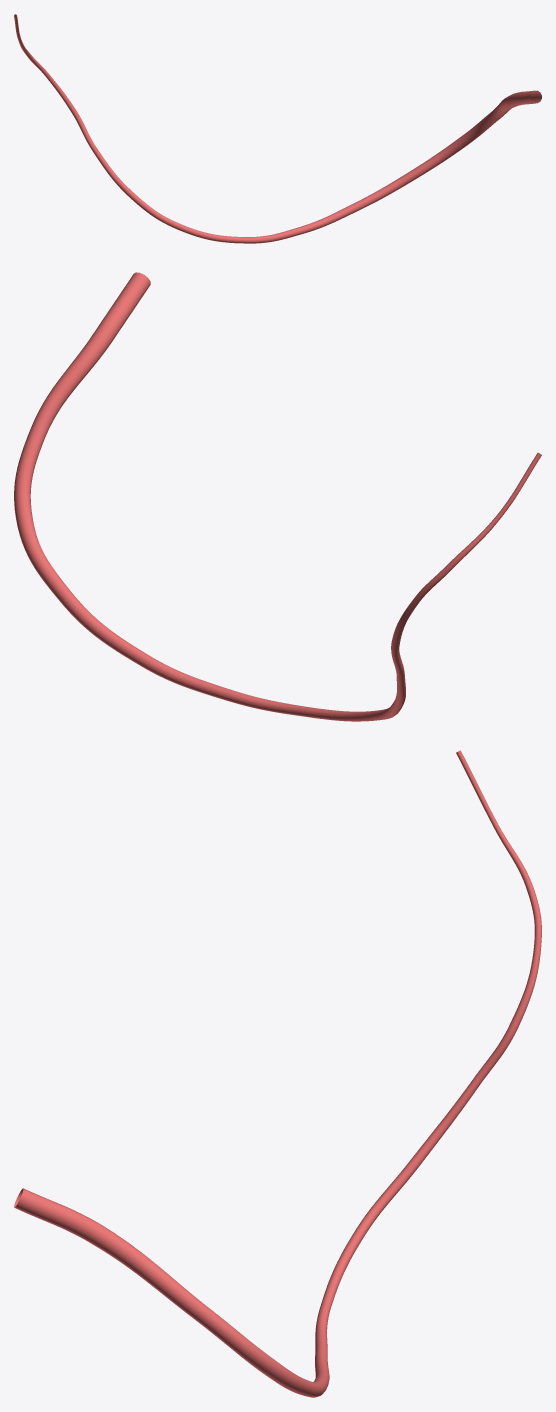
File: Lateral_occipital_artery.r_BezierCurve.228.glb
The picture shows the model from 3 angles, top to bottom: view 1: azimuth 30°, elevation 25°; view 2: azimuth 150°, elevation 25°; view 3: azimuth 270°, elevation 25°; orthographic projection. The views are drawn at different scales.
Parts seen in each view (by area): view 1: Lateral_occipital_artery.r_BezierCurve.228; view 2: Lateral_occipital_artery.r_BezierCurve.228; view 3: Lateral_occipital_artery.r_BezierCurve.228.
Part boxes in pixels (left/top/right/bottom): Lateral_occipital_artery.r_BezierCurve.228: left=14, top=14, right=541, bottom=243; Lateral_occipital_artery.r_BezierCurve.228: left=14, top=272, right=541, bottom=721; Lateral_occipital_artery.r_BezierCurve.228: left=14, top=750, right=541, bottom=1397.
Size of the model in its own units: 0.0434 by 0.0254 by 0.0293.
